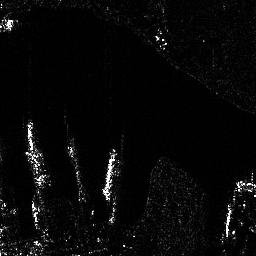ship: (25, 121, 52, 187), (103, 147, 118, 203)
